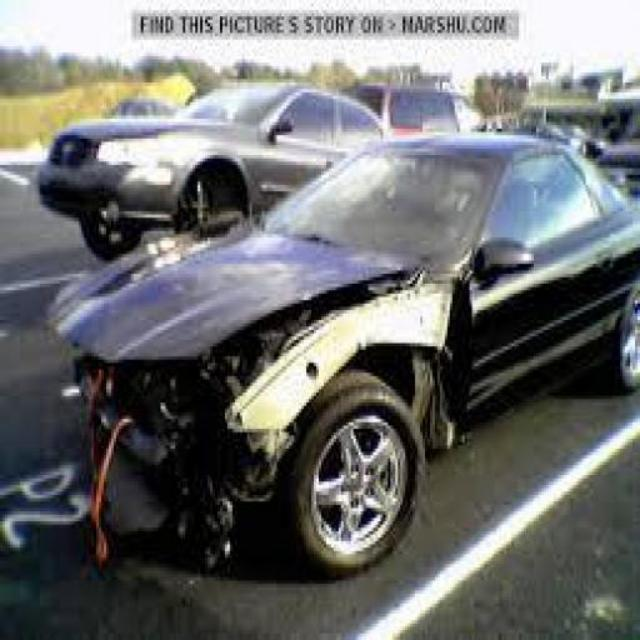no part: (54, 271, 470, 567)
